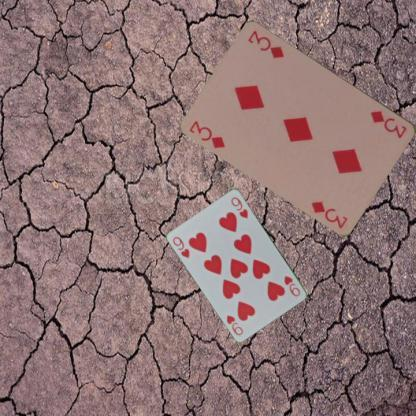3d: (186, 118, 228, 150), (368, 107, 408, 140)
9h: (170, 234, 192, 259), (282, 272, 302, 298)
